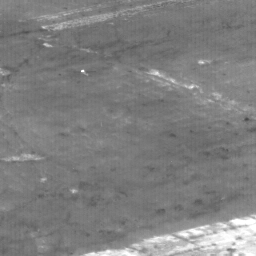aircraft: (82, 70, 84, 72)
